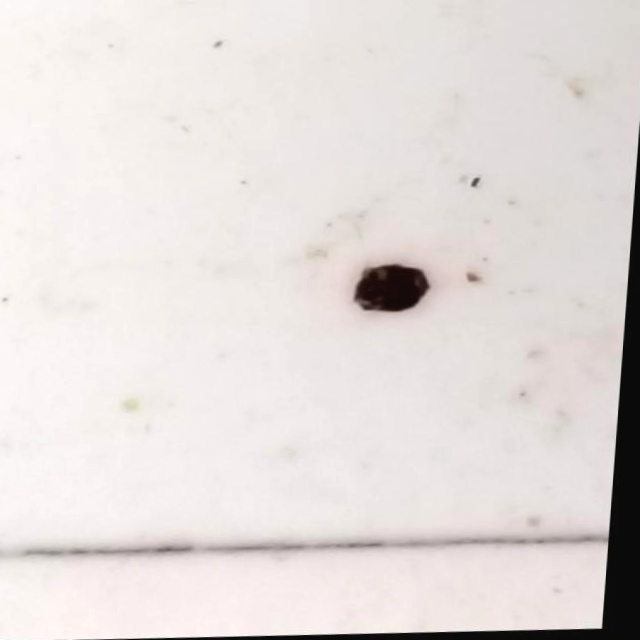varroa: (354, 266, 437, 320)
